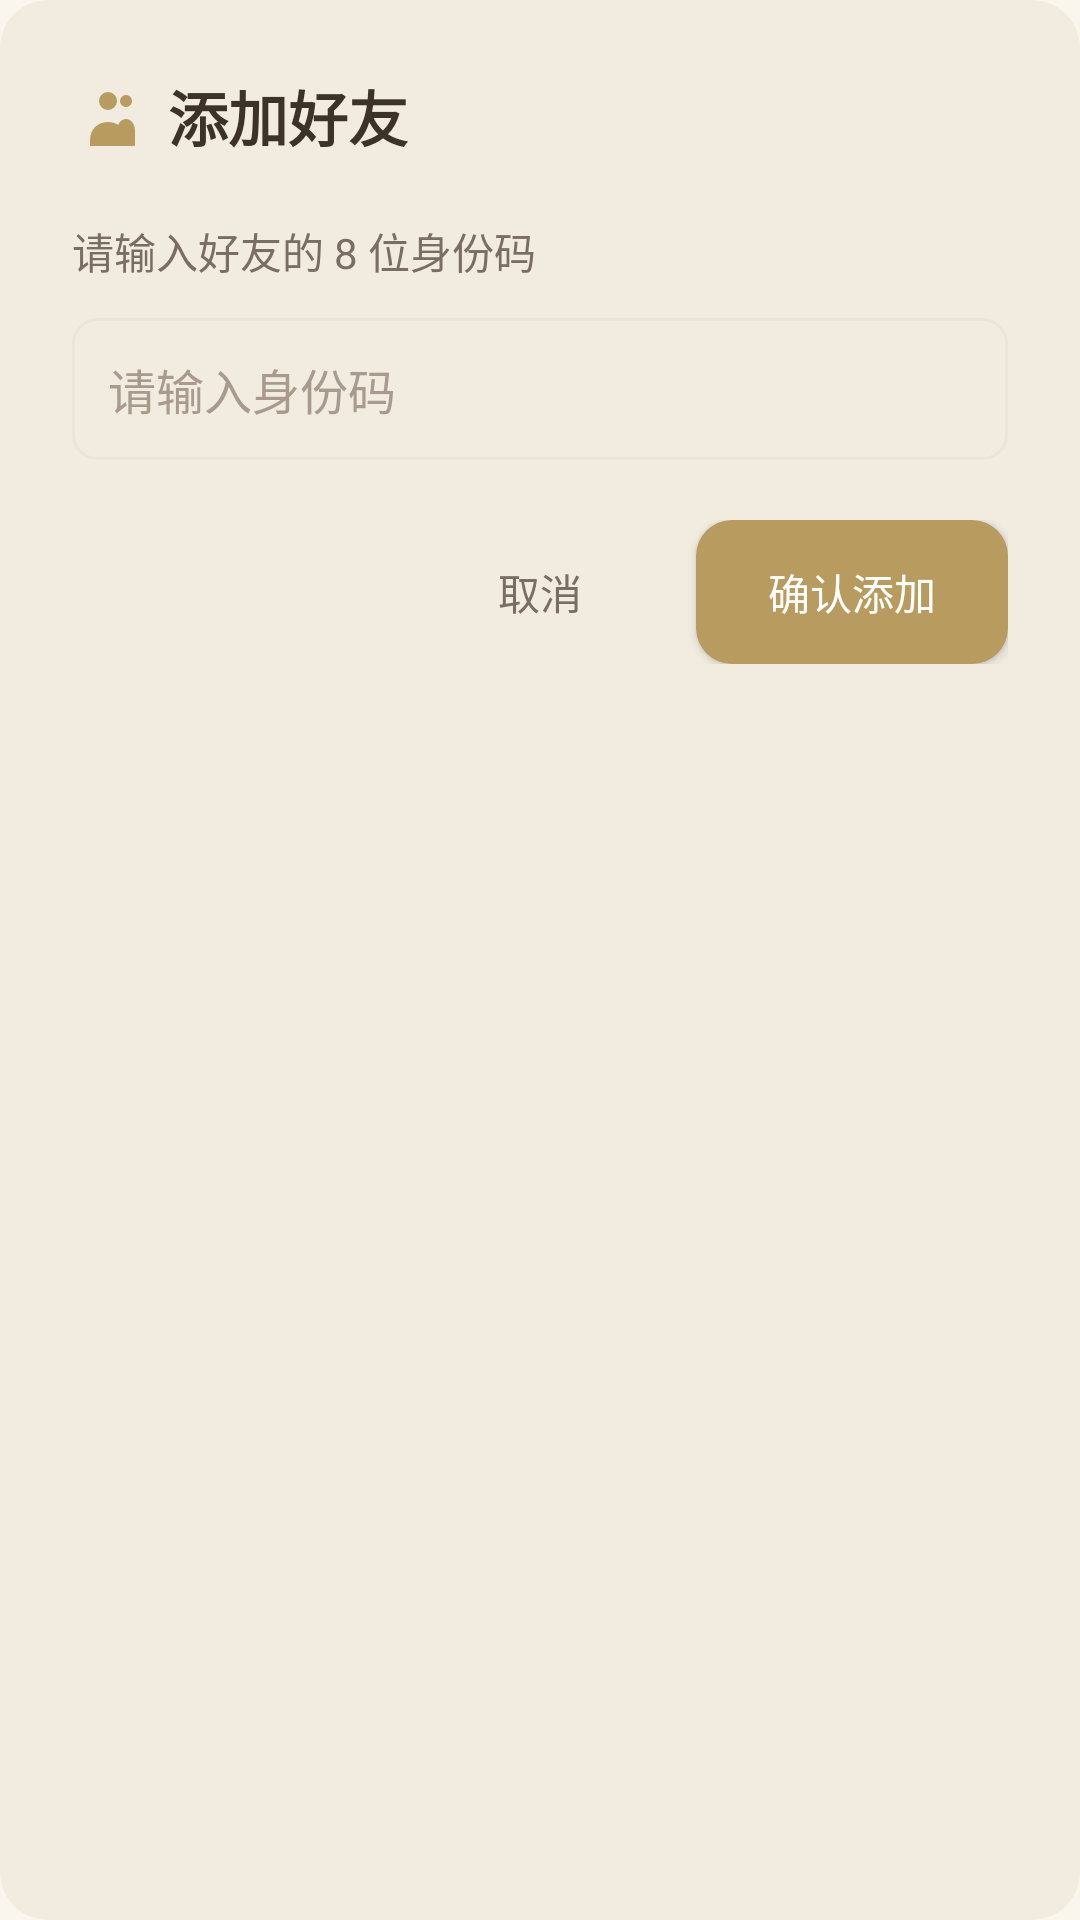

Named icons in this screenshot (1080x1920) and their bounding boxes, bbox(x1, y1, x2, y2):
people: bbox(90, 92, 135, 146)
